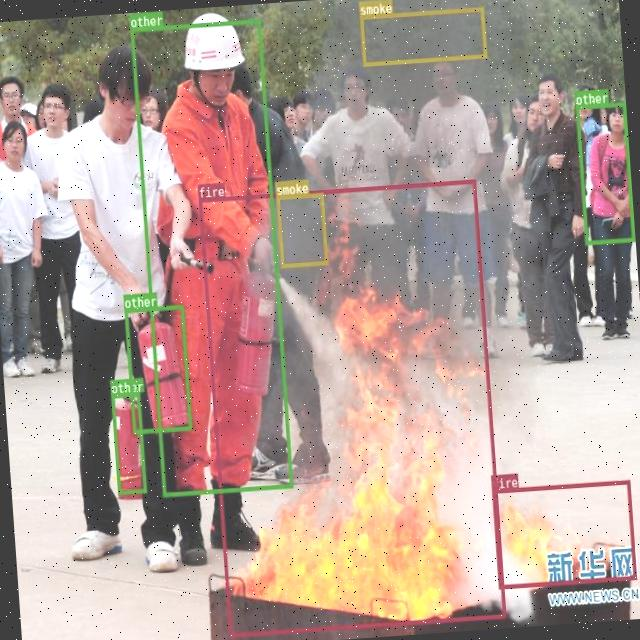fire: (198, 179, 504, 636), (490, 478, 636, 588)
smoke: (359, 6, 486, 66), (275, 192, 327, 266)
